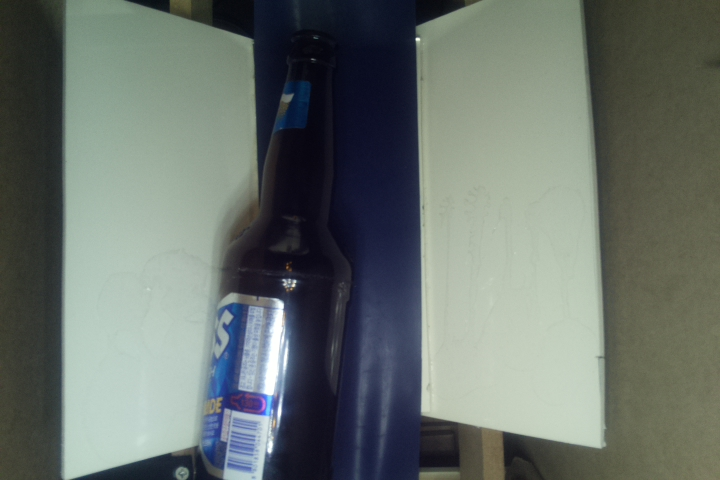makju: (196, 30, 360, 480)
